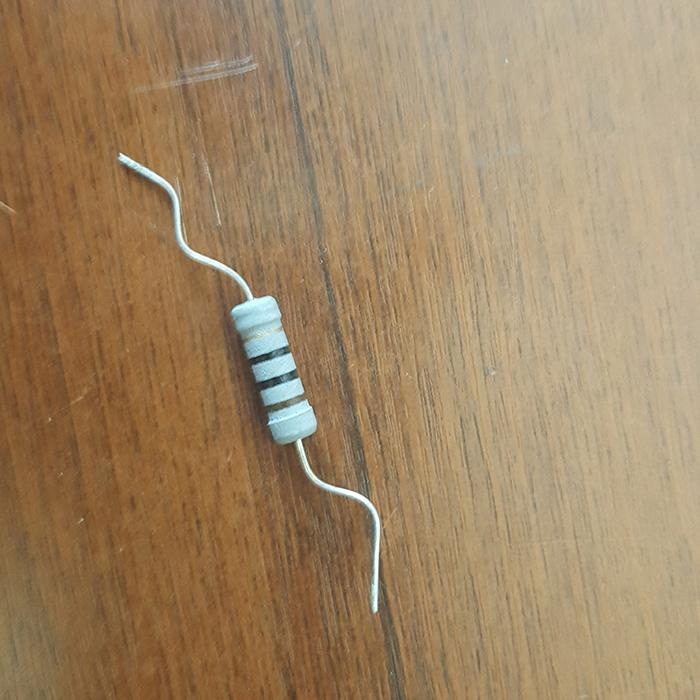resistor: (229, 293, 317, 444)
